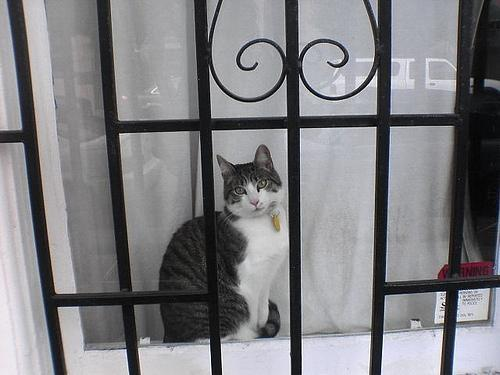car: (57, 108, 165, 234)
